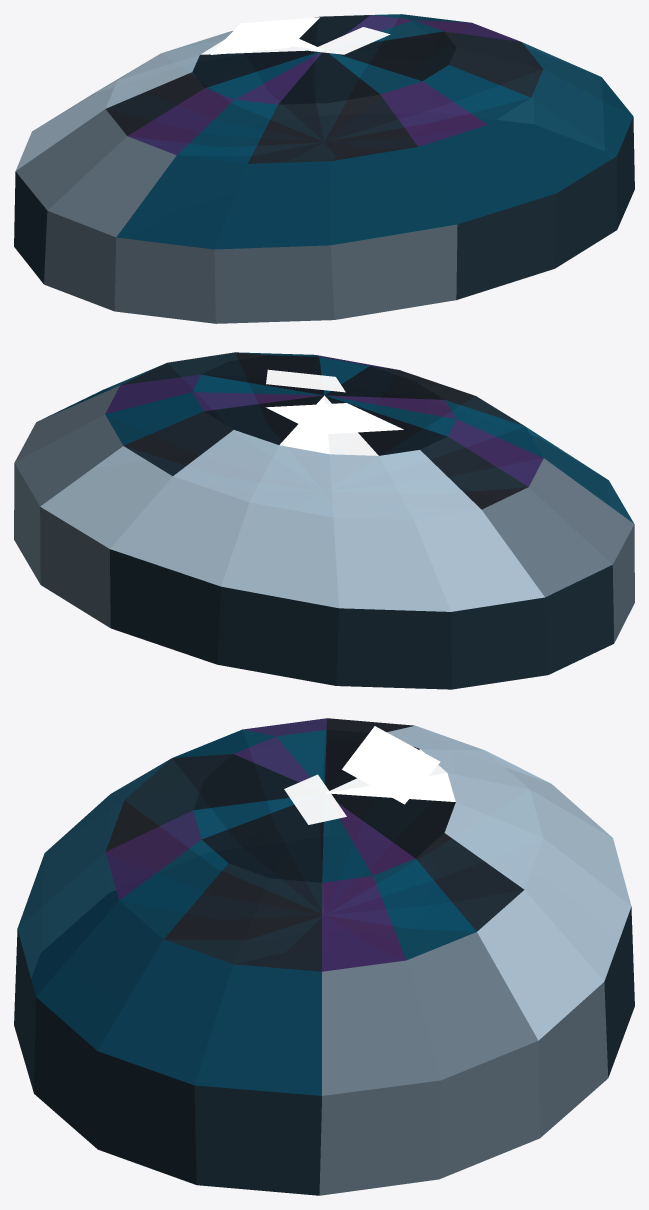
File: Onyx.glb
3 views of the same model, one above another, from view 1: azimuth 30°, elevation 25°; view 2: azimuth 150°, elevation 25°; view 3: azimuth 270°, elevation 25° (orthographic). The views are drawn at different scales.
Visible parts, largest first — view 1: Onyx_Body_Core, Onyx_Glass_Crown; view 2: Onyx_Glass_Crown, Onyx_Body_Core; view 3: Onyx_Glass_Crown, Onyx_Body_Core.
Part boxes in pixels (box(x1,y1,x2,y2)): Onyx_Body_Core: box(14, 14, 634, 323); Onyx_Glass_Crown: box(15, 14, 633, 249); Onyx_Glass_Crown: box(14, 352, 634, 611); Onyx_Body_Core: box(14, 352, 634, 689); Onyx_Glass_Crown: box(17, 718, 631, 1095); Onyx_Body_Core: box(14, 718, 634, 1195).
Size of the model in its own units: 1.08 by 0.372 by 0.7846.
